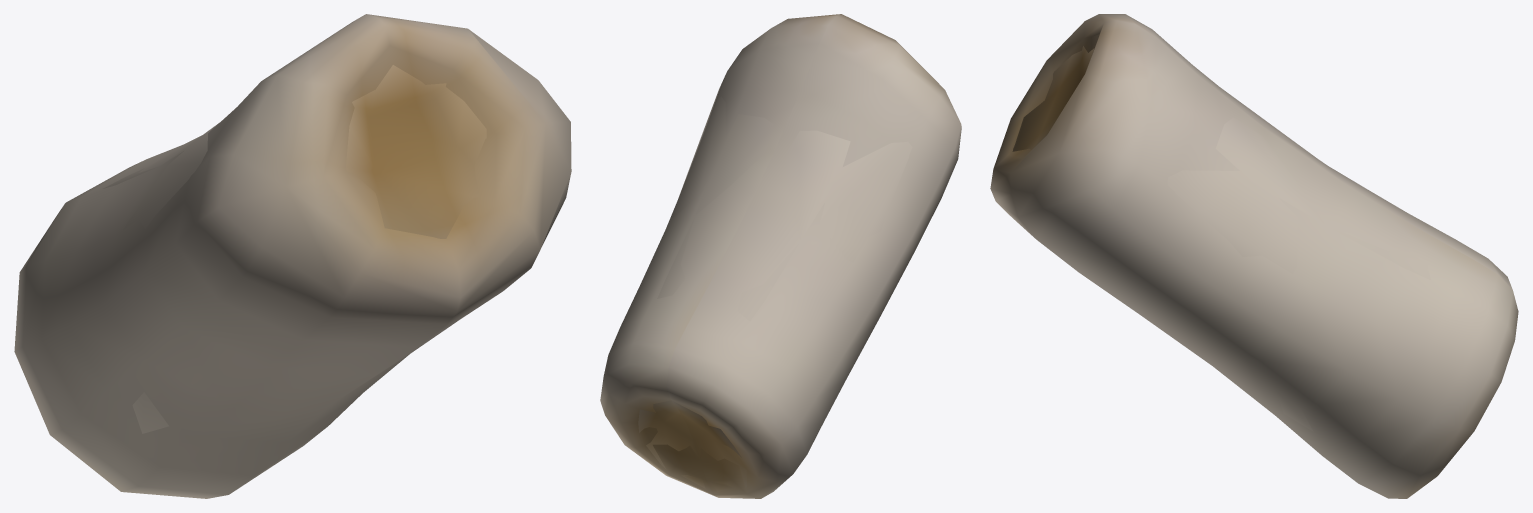
Rendered from vertebrae caudales 12.fbx.
3 renders of one model, left to right at view 1: azimuth 30°, elevation 25°; view 2: azimuth 150°, elevation 25°; view 3: azimuth 270°, elevation 25°, orthographic. The views are drawn at different scales.
Parts seen in each view (by area): view 1: vertebrae caudales 12, vertebrae caudales 12 low; view 2: vertebrae caudales 12, vertebrae caudales 12 low; view 3: vertebrae caudales 12, vertebrae caudales 12 low.
Boxes of the visible parts, bbox=[...] form: vertebrae caudales 12: bbox=[14, 14, 571, 498]; vertebrae caudales 12 low: bbox=[103, 65, 486, 433]; vertebrae caudales 12: bbox=[600, 14, 961, 498]; vertebrae caudales 12 low: bbox=[638, 96, 912, 491]; vertebrae caudales 12: bbox=[990, 14, 1518, 498]; vertebrae caudales 12 low: bbox=[1012, 46, 1430, 431].
Size of the model in its own units: 0.8285 by 1.32 by 1.35.
1 material, 1 textured.
